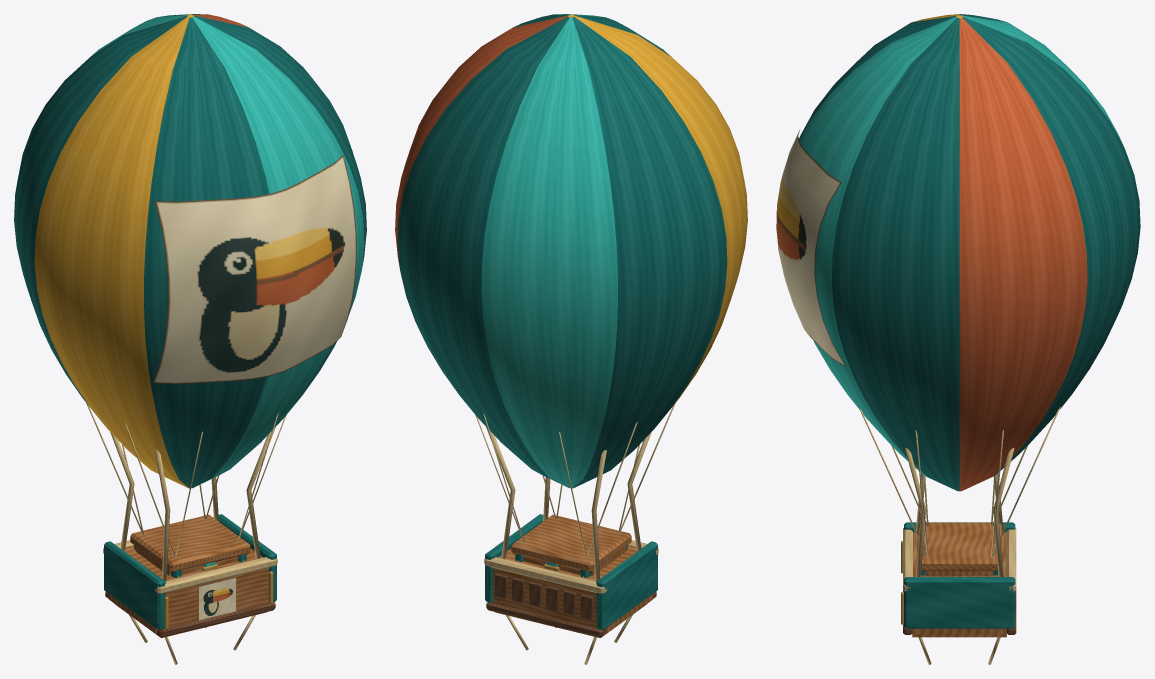
File: supply-drop.glb
The picture shows the model from 3 angles, left to right: view 1: azimuth 30°, elevation 25°; view 2: azimuth 150°, elevation 25°; view 3: azimuth 270°, elevation 25°; orthographic projection.
Visible parts, largest first — view 1: drop_carrier_LOD0, drop_crate_LOD0, drop_chute_LOD0; view 2: drop_carrier_LOD0, drop_crate_LOD0, drop_chute_LOD0; view 3: drop_carrier_LOD0, drop_crate_LOD0, drop_chute_LOD0.
Boxes of the visible parts, x1,y1,x2,y2 form: drop_carrier_LOD0: (14,14,366,664); drop_crate_LOD0: (130,514,250,577); drop_chute_LOD0: (86,403,286,557); drop_carrier_LOD0: (395,14,747,664); drop_crate_LOD0: (511,514,631,577); drop_chute_LOD0: (475,403,675,557); drop_carrier_LOD0: (776,14,1140,664); drop_crate_LOD0: (917,522,1001,576); drop_chute_LOD0: (858,406,1060,556).
Size of what is drawn, in the model's own units: 3.64 by 7.03 by 3.66.
Materials: 1 (1 with a texture image).
